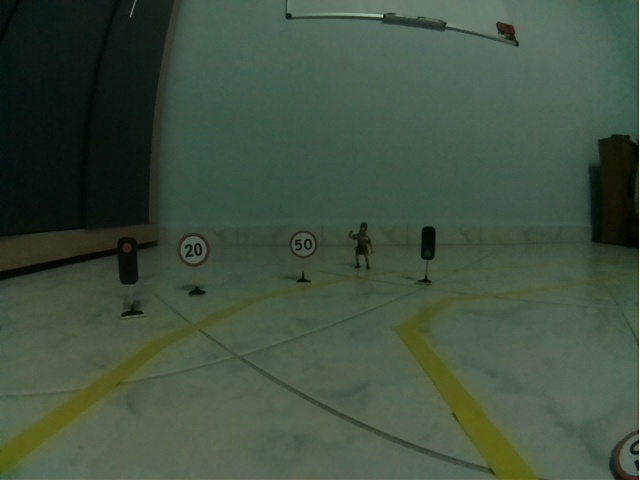Green Traffic Light: (420, 226, 436, 260)
Person: (348, 222, 377, 270)
Red Traffic Light: (116, 236, 139, 285)
Speed Limit 20: (177, 232, 210, 267)
Speed Limit 50: (289, 230, 318, 259)
